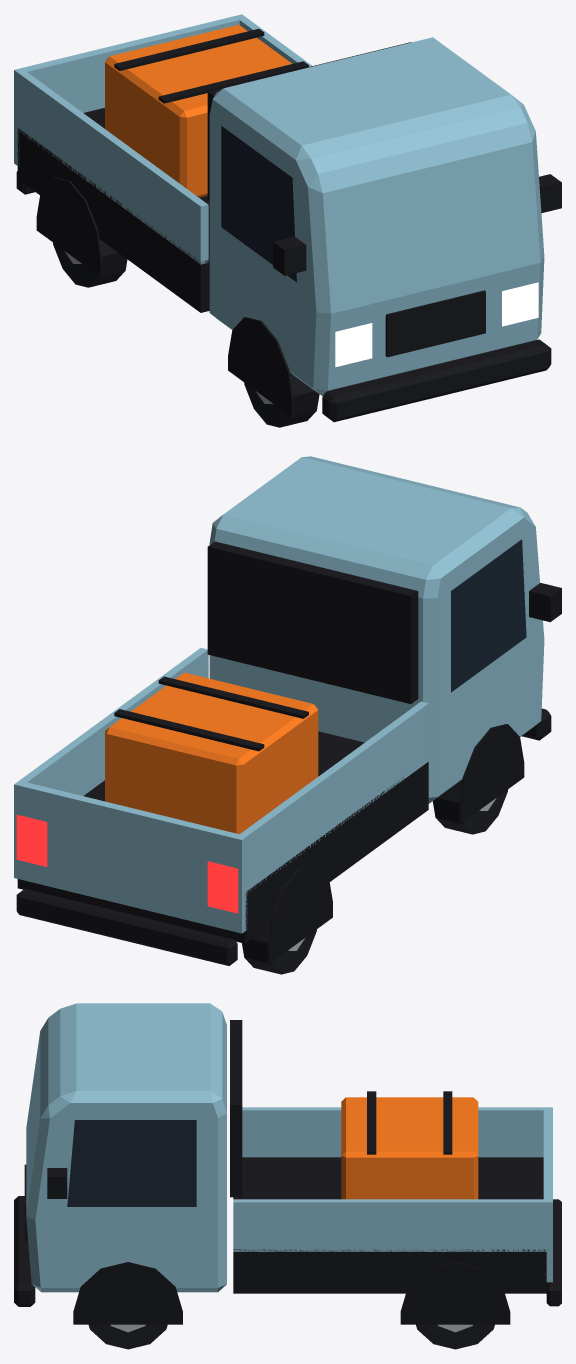
The model's file is kei.glb.
3 renders of one model, top to bottom at view 1: azimuth 30°, elevation 25°; view 2: azimuth 150°, elevation 25°; view 3: azimuth 270°, elevation 25°, orthographic. The views are drawn at different scales.
Visible parts, largest first — view 1: cab, bag, bedside_-1, bedfloor, bumper_f, sidewin_-1, tailgate, grille, arch_-1.1_-1, arch_+1.1_-1, wheel_FL, wheel_RL (+8 smaller); view 2: cab, rack, bag, tailgate, bedside_-1, bedfloor, sidewin_-1, bumper_r, bedside_1, arch_+1.1_-1, arch_-1.1_-1, wheel_FL (+6 smaller); view 3: cab, bedfloor, bedside_1, bag, sidewin_1, bedside_-1, arch_-1.1_1, arch_+1.1_1, rack, bumper_f, tailgate, wheel_RR (+5 smaller).
Part boxes in pixels (x1,y1,x2,y2): cab: [209, 37, 544, 395]; bag: [105, 24, 291, 197]; bedside_-1: [17, 70, 208, 264]; bedfloor: [17, 108, 209, 312]; bumper_f: [322, 339, 551, 422]; sidewin_-1: [221, 126, 296, 282]; tailgate: [14, 14, 245, 166]; grille: [385, 290, 485, 357]; arch_-1.1_-1: [36, 177, 102, 277]; arch_+1.1_-1: [228, 317, 293, 417]; wheel_FL: [244, 372, 319, 427]; wheel_RL: [53, 239, 127, 287]; cab: [209, 456, 544, 803]; rack: [207, 541, 418, 703]; bag: [105, 672, 318, 834]; tailgate: [14, 780, 247, 933]; bedside_-1: [240, 701, 428, 894]; bedfloor: [17, 731, 428, 943]; sidewin_-1: [451, 539, 526, 692]; bumper_r: [16, 888, 237, 965]; bedside_1: [19, 648, 208, 795]; arch_+1.1_-1: [458, 724, 524, 824]; arch_-1.1_-1: [267, 864, 332, 963]; wheel_FL: [432, 779, 508, 834]; cab: [26, 1003, 226, 1292]; bedfloor: [233, 1157, 546, 1293]; bedside_1: [233, 1199, 546, 1251]; bag: [341, 1097, 478, 1199]; sidewin_1: [67, 1120, 196, 1206]; bedside_-1: [242, 1107, 546, 1157]; arch_-1.1_1: [400, 1262, 510, 1324]; arch_+1.1_1: [73, 1262, 182, 1324]; rack: [230, 1020, 242, 1197]; bumper_f: [14, 1196, 35, 1306]; tailgate: [543, 1107, 552, 1282]; wheel_RR: [416, 1324, 494, 1349].
Size of the model in its own units: 1.8 by 1.86 by 3.6.
